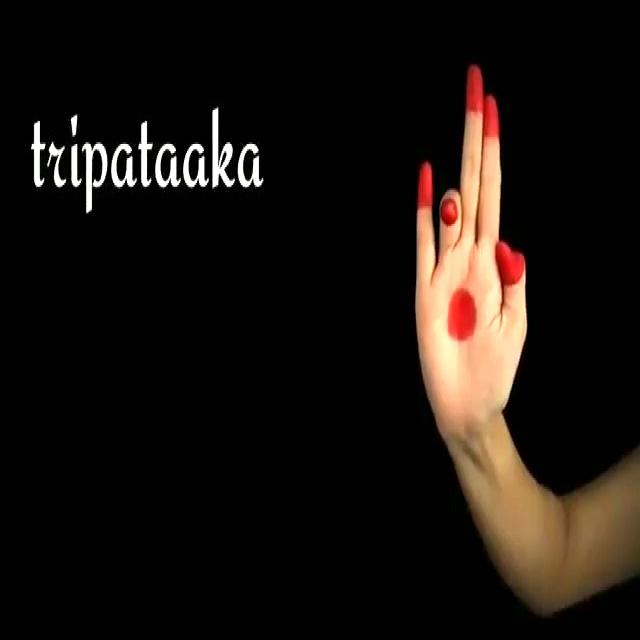Tripataka: (385, 31, 563, 470)
text: (18, 94, 272, 222)
